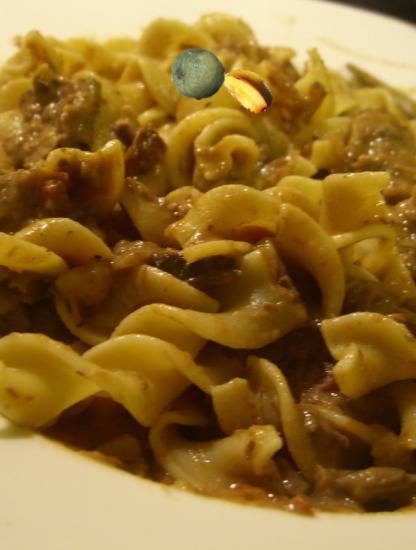Carambula: (223, 63, 277, 117)
Limes: (171, 47, 226, 102)
